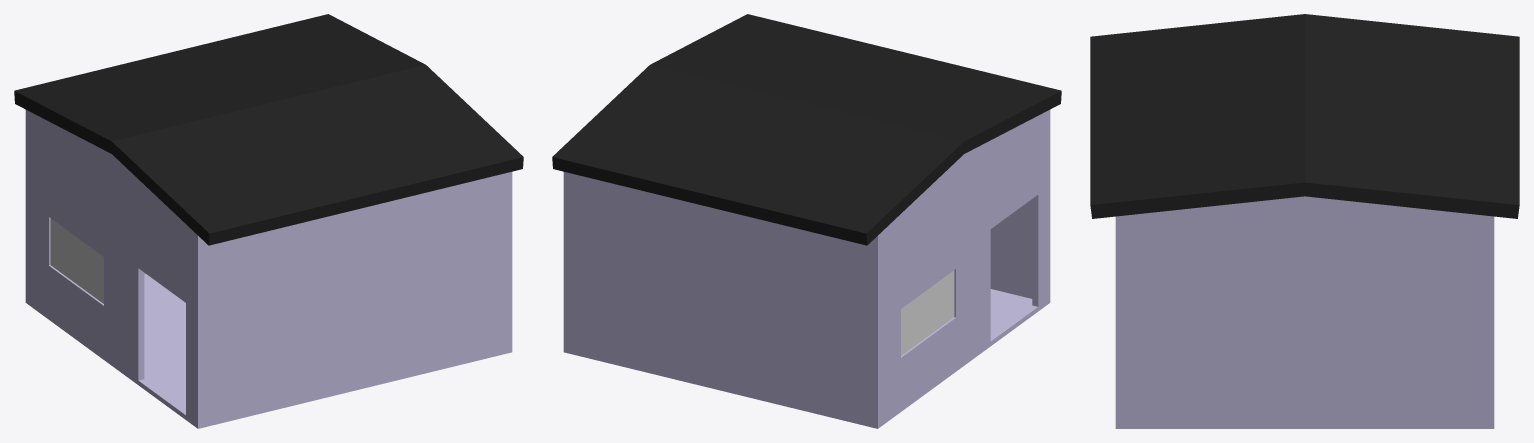
The model's file is kioski.fbx.
3 renders of one model, left to right at view 1: azimuth 30°, elevation 25°; view 2: azimuth 150°, elevation 25°; view 3: azimuth 270°, elevation 25°, orthographic. The views are drawn at different scales.
Visible parts, largest first — view 1: house, roof, window; view 2: house, roof, window; view 3: house, roof.
Boxes of the visible parts, <box> form: house: <box>25,110,512,428</box>; roof: <box>14,14,523,245</box>; window: <box>50,218,103,303</box>; house: <box>563,110,1050,428</box>; roof: <box>552,14,1061,245</box>; window: <box>901,270,954,355</box>; house: <box>1115,196,1494,428</box>; roof: <box>1090,14,1519,218</box>.
Bounding box in the file's own units: 582 × 397 × 626.
